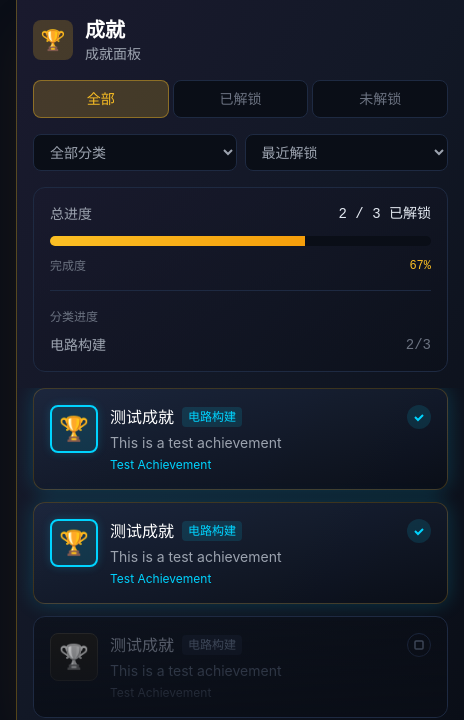
it: AchievementPanel Component › AC-181-002: AchievementPanel filtering works › "Unlocked" tab shows only unlocked achievements
# Click unlocked tab
Step 1. Click the button with test id "achievement-tab-unlocked" → {"x": 241, "y": 99}, box [173,80,308,118]
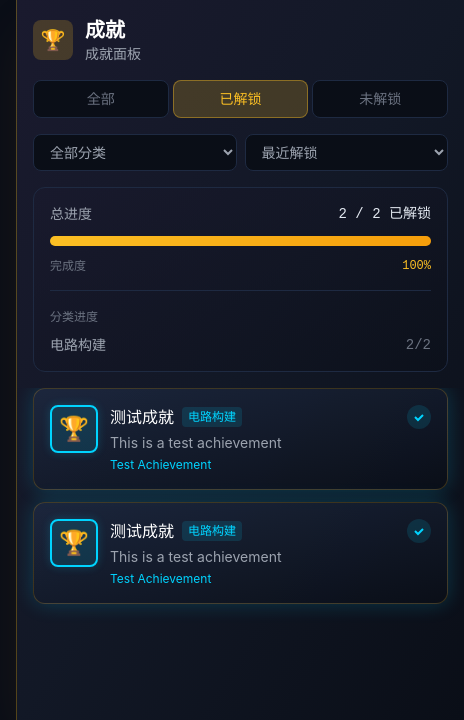
Expected: the element with test id "achievement-badge-a1" is shown, [33,388,448,490]
Result: the element with test id "achievement-badge-a2" is gone
